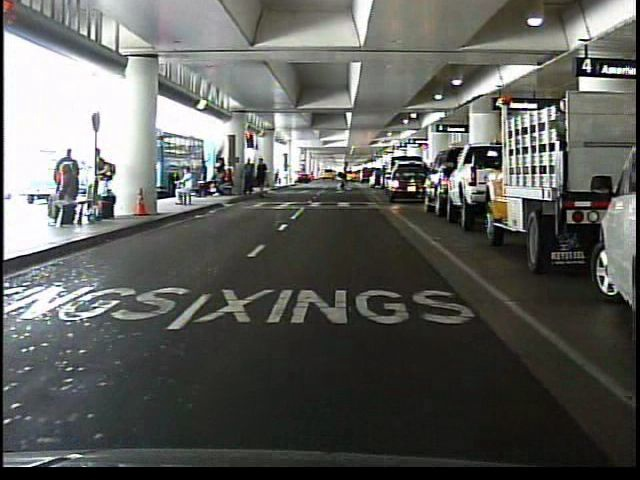person: (171, 170, 199, 210), (334, 159, 356, 192)
